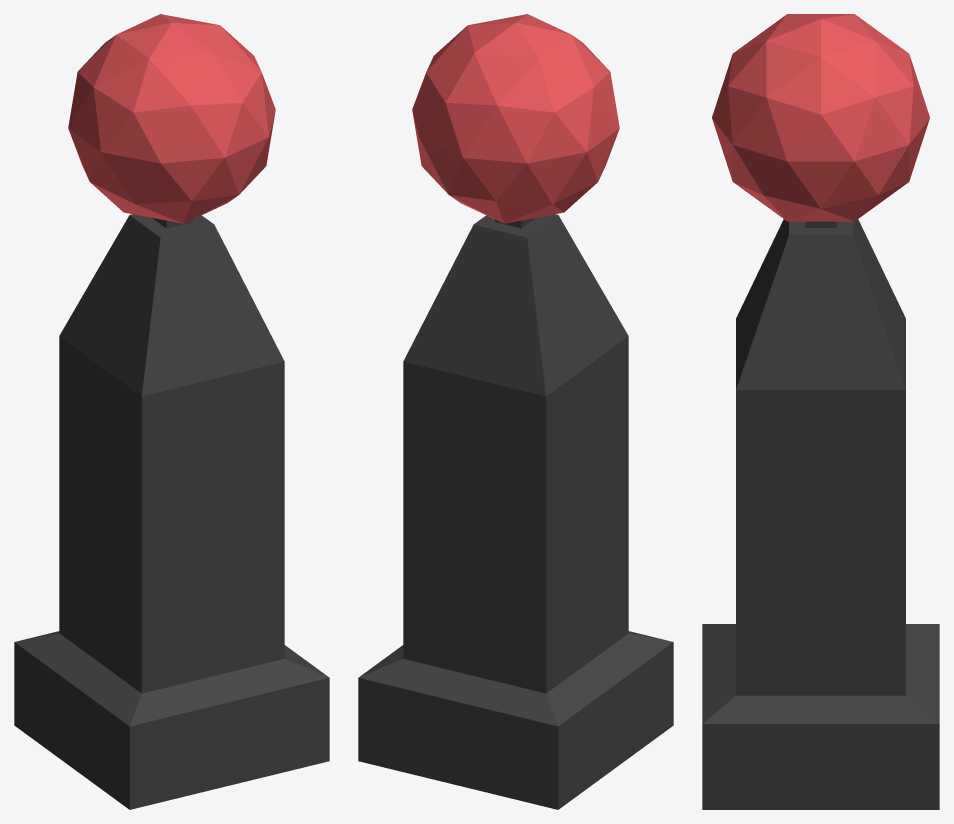
The model's file is pylon.glb.
The picture shows the model from 3 angles, left to right: view 1: azimuth 30°, elevation 25°; view 2: azimuth 150°, elevation 25°; view 3: azimuth 270°, elevation 25°; orthographic projection. The views are drawn at different scales.
Parts seen in each view (by area): view 1: pylon, orb; view 2: pylon, orb; view 3: pylon, orb.
Boxes of the visible parts, x1=… form: pylon: x1=14, y1=214, x2=329, y2=809; orb: x1=68, y1=14, x2=275, y2=223; pylon: x1=358, y1=214, x2=673, y2=809; orb: x1=412, y1=14, x2=619, y2=223; pylon: x1=702, y1=219, x2=939, y2=809; orb: x1=712, y1=14, x2=929, y2=221.
Bounding box in the file's own units: 1.05 × 3.61 × 1.05.
